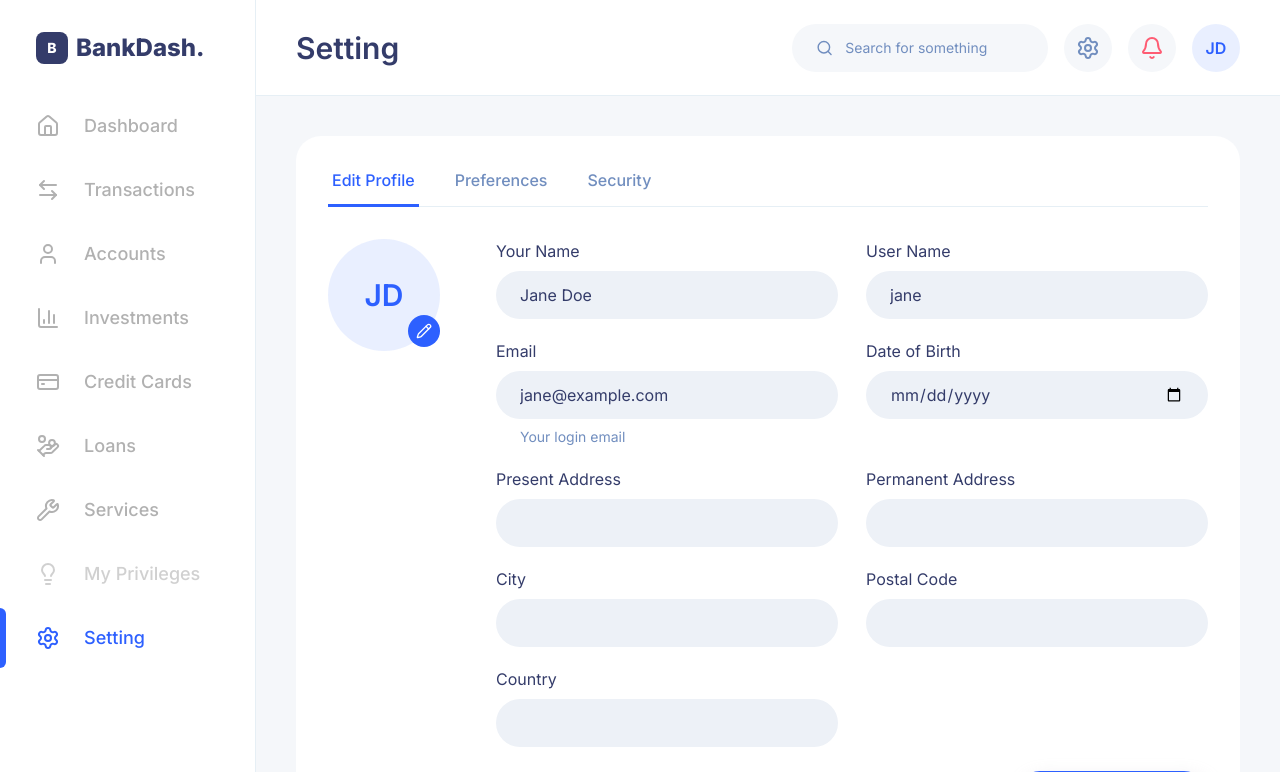
it: Settings › opens Edit Profile first and switches tabs through the URL
This screenshot has width=1280, height=772.
Step 1. Click the tab "Security" → (619, 188), box [583,168,655,207]
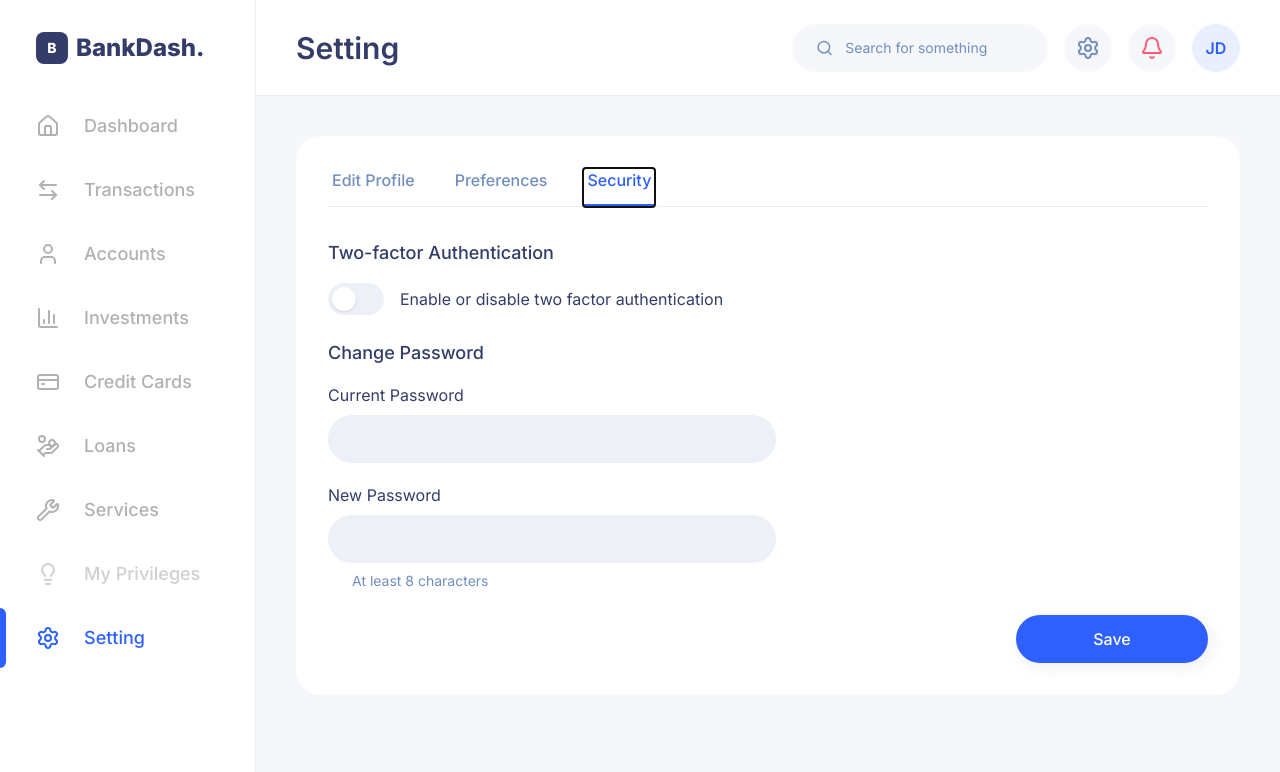
Result: the form named "Security" is shown at [328,239,1208,663]
